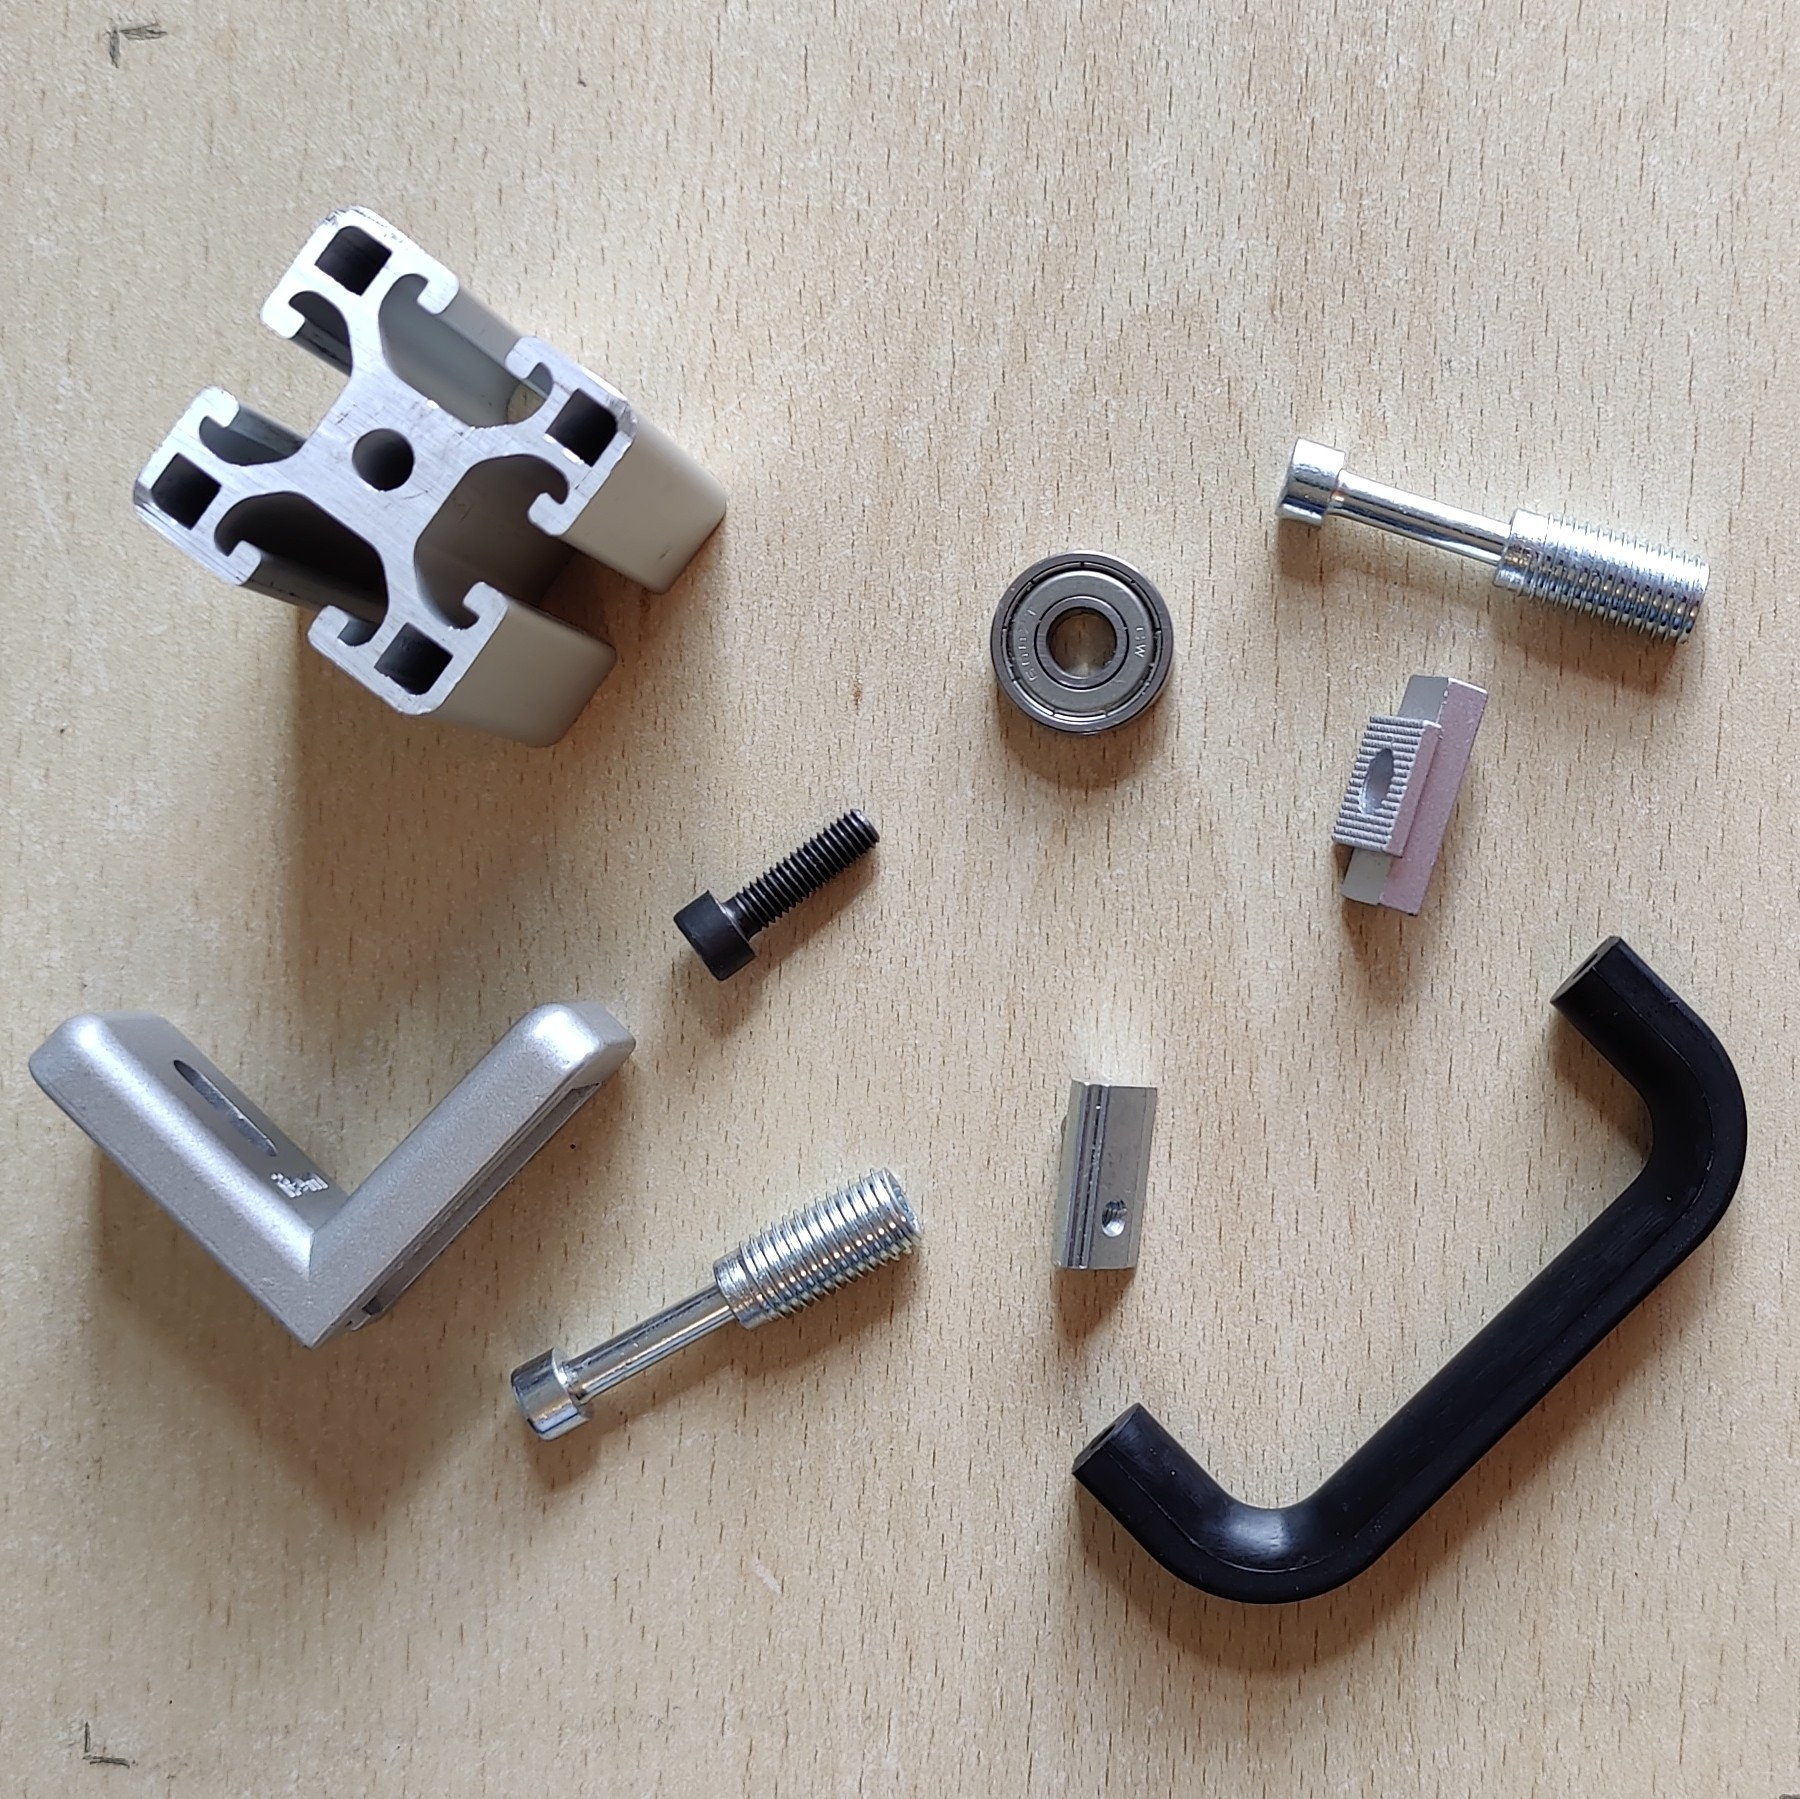Aluminium Extension: (132, 204, 725, 753)
Ball Bearing: (990, 549, 1176, 740)
Multiwinkel: (25, 993, 636, 1353)
Pull Handle: (1067, 926, 1751, 1606)
Shoulder Socket Head Cap Screw: (507, 1165, 926, 1446), (1270, 432, 1714, 649)
Socket Head Cap Screw: (670, 804, 883, 987)
T Nut Square: (1329, 669, 1492, 923)
T Spring Nut: (1047, 1072, 1163, 1275)
